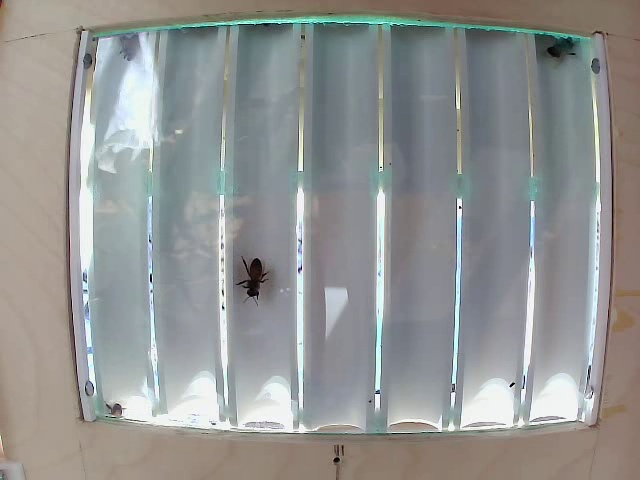bee: (228, 249, 270, 293)
